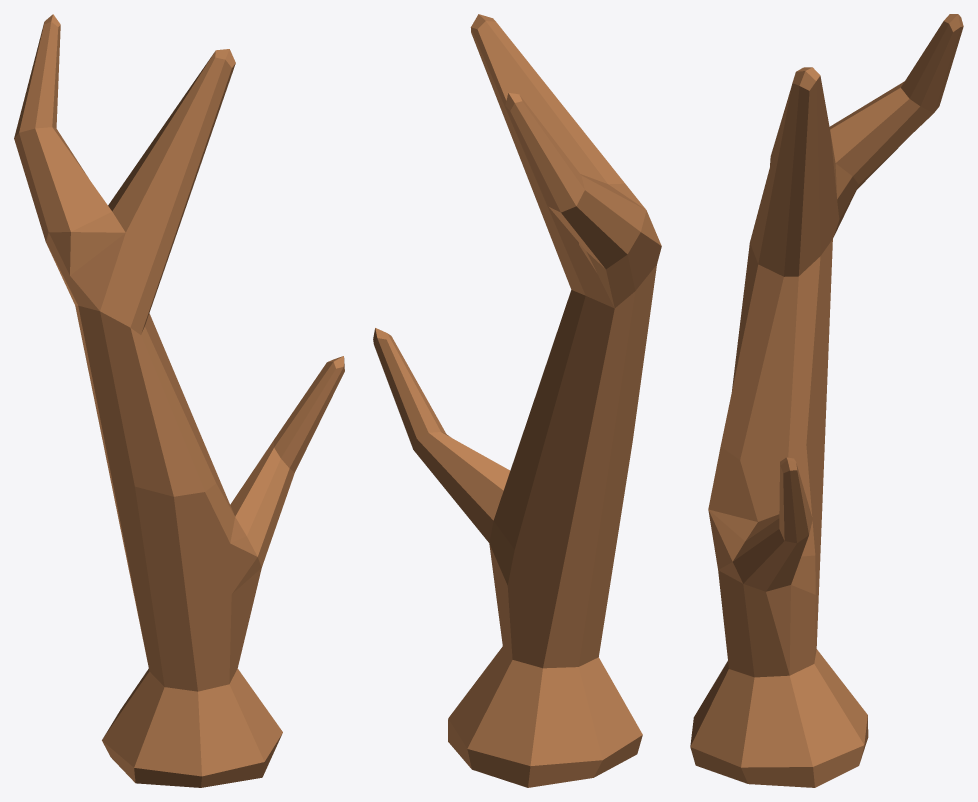
Rendered from Tree11Rot.fbx.
3 renders of one model, left to right at view 1: azimuth 30°, elevation 25°; view 2: azimuth 150°, elevation 25°; view 3: azimuth 270°, elevation 25°, orthographic. The views are drawn at different scales.
Visible parts, largest first — view 1: Tree11Rot; view 2: Tree11Rot; view 3: Tree11Rot.
Part boxes in pixels (x1,y1,x2,y2): Tree11Rot: (14,14,344,787); Tree11Rot: (373,14,661,787); Tree11Rot: (690,14,963,787).
Bounding box in the file's own units: 173 × 418 × 146.
